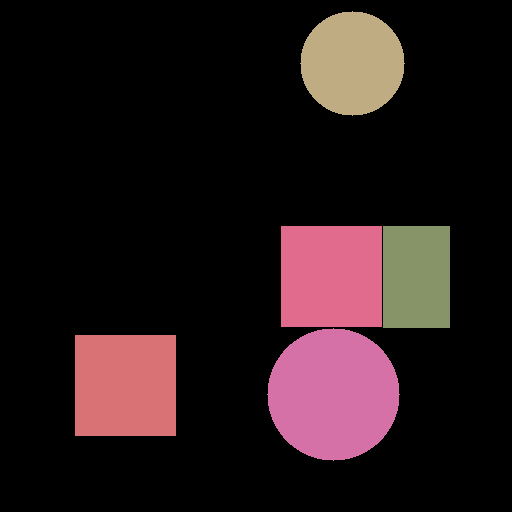circle: (267, 328, 399, 460), (300, 11, 404, 115)
rectangle: (383, 226, 449, 327)
square: (75, 335, 175, 435), (281, 226, 381, 326)
